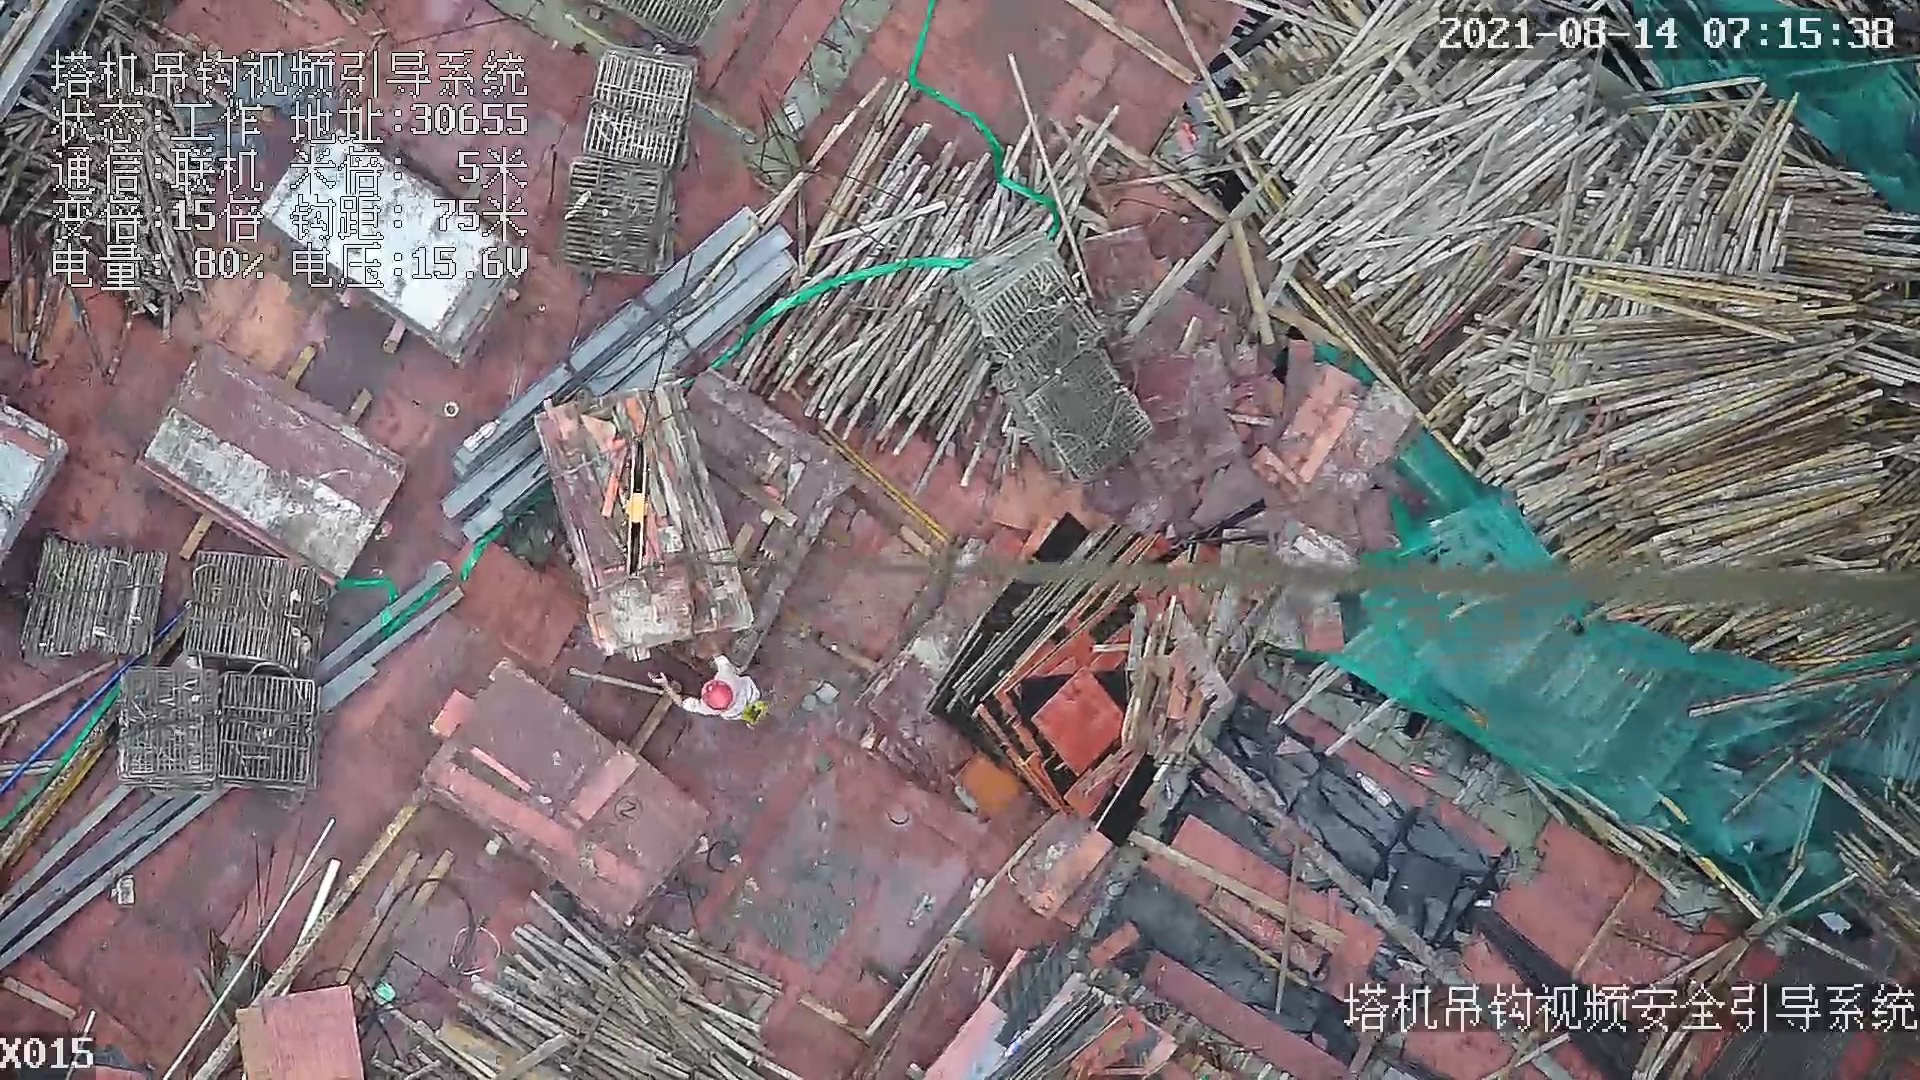helmet: (697, 682, 740, 708)
hook: (615, 437, 655, 580)
person: (651, 656, 768, 728)
